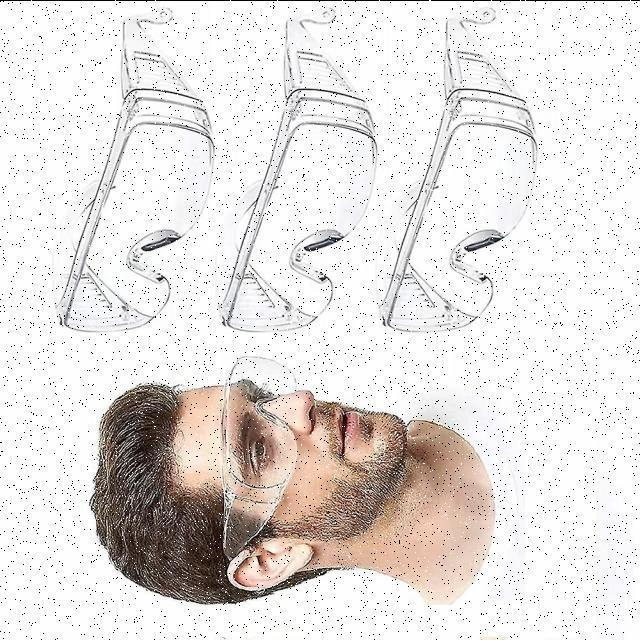Goggles: (40, 0, 218, 343), (382, 1, 547, 339), (219, 1, 381, 335), (220, 346, 300, 564)
